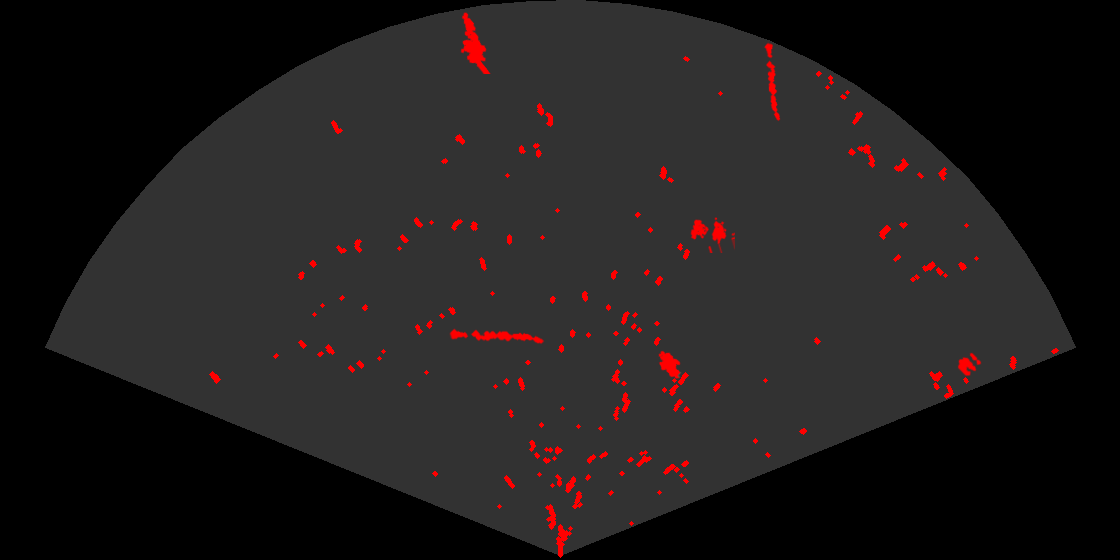AUV: (657, 349, 682, 380)
ball: (956, 351, 983, 378)
cage: (689, 216, 735, 253)
chain: (449, 327, 545, 346), (763, 41, 782, 122)
frogman: (459, 11, 492, 74)
